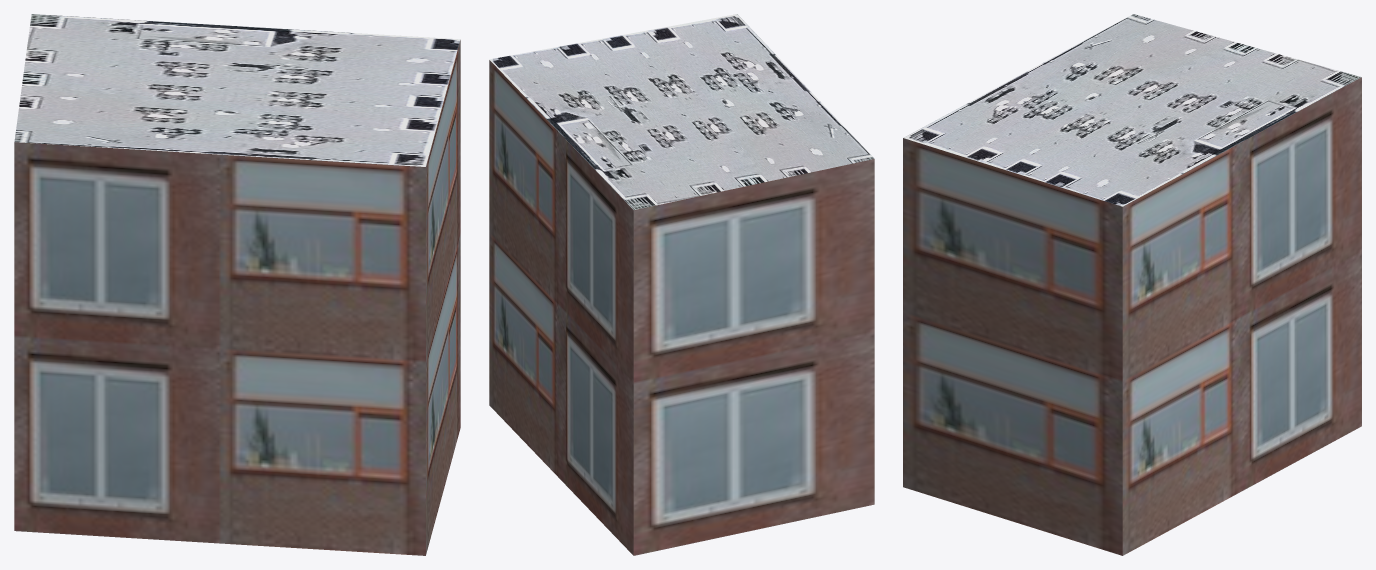
The model's file is ResTex__1743.fbx.
3 views of the same model, side by side, from view 1: azimuth 30°, elevation 25°; view 2: azimuth 150°, elevation 25°; view 3: azimuth 270°, elevation 25° (orthographic). The views are drawn at different scales.
Visible parts, largest first — view 1: CityEngineMaterial_19_m, CityEngineMaterial_15_m; view 2: CityEngineMaterial_19_m, CityEngineMaterial_15_m; view 3: CityEngineMaterial_19_m, CityEngineMaterial_15_m.
Part boxes in pixels (bbox=[...]): CityEngineMaterial_19_m: bbox=[14, 40, 460, 555]; CityEngineMaterial_15_m: bbox=[14, 14, 460, 166]; CityEngineMaterial_19_m: bbox=[489, 60, 874, 555]; CityEngineMaterial_15_m: bbox=[489, 14, 874, 209]; CityEngineMaterial_19_m: bbox=[903, 77, 1361, 555]; CityEngineMaterial_15_m: bbox=[903, 14, 1361, 206].
Bounding box in the file's own units: 7.1 × 6 × 7.14.
2 materials, 2 textured.
